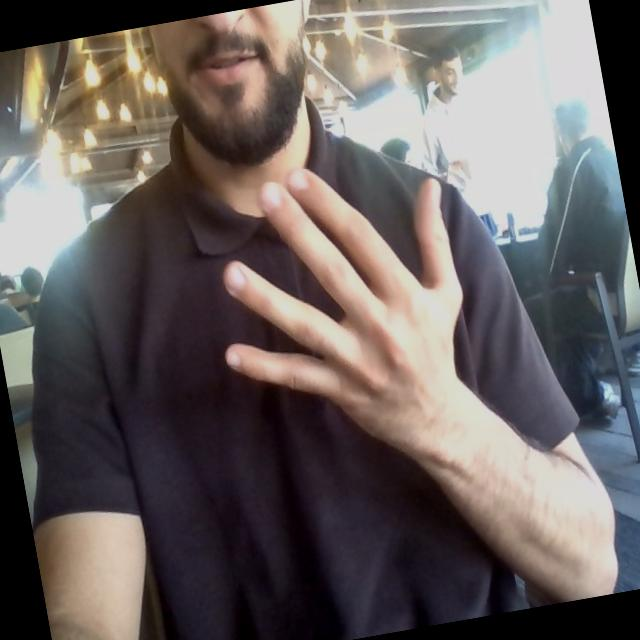Hand: (224, 169, 461, 452)
